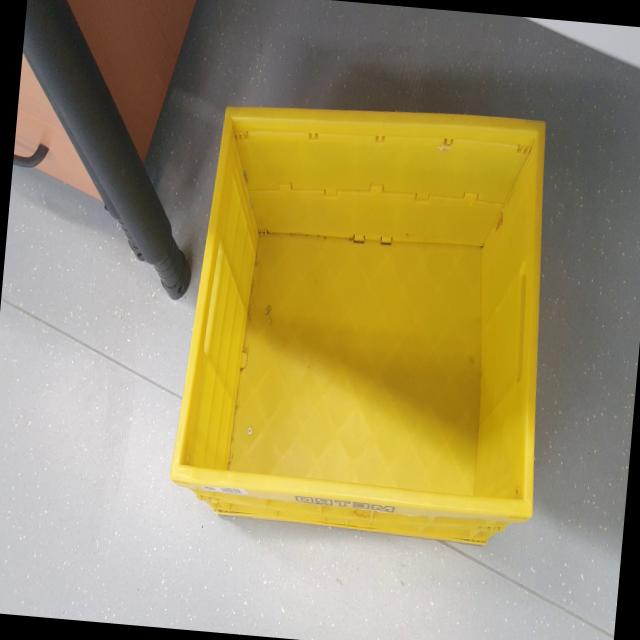box: (158, 72, 576, 572)
